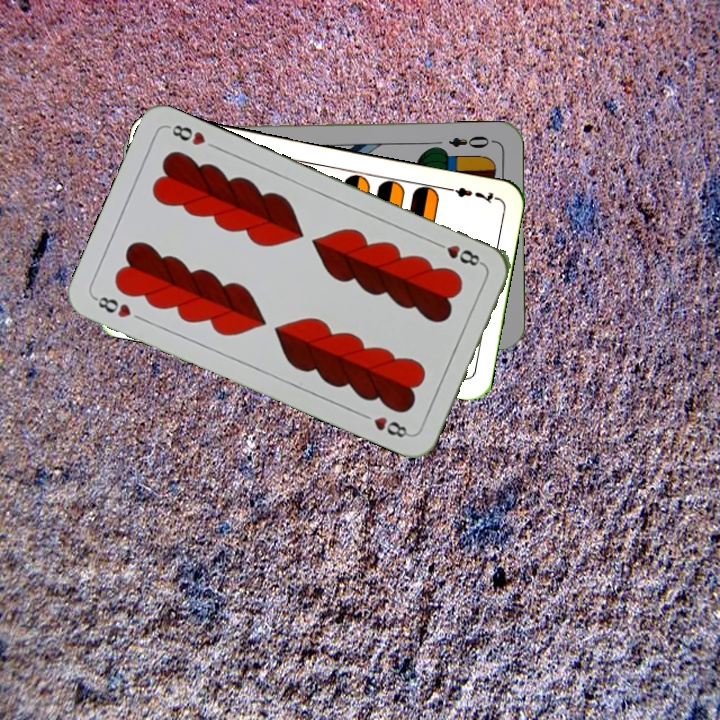E7: (440, 182, 499, 206)
EO: (445, 131, 497, 151)
H8: (430, 237, 486, 269), (90, 292, 134, 321)
